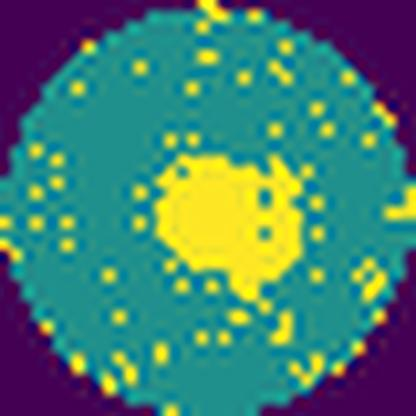Center: (156, 151, 306, 311)
